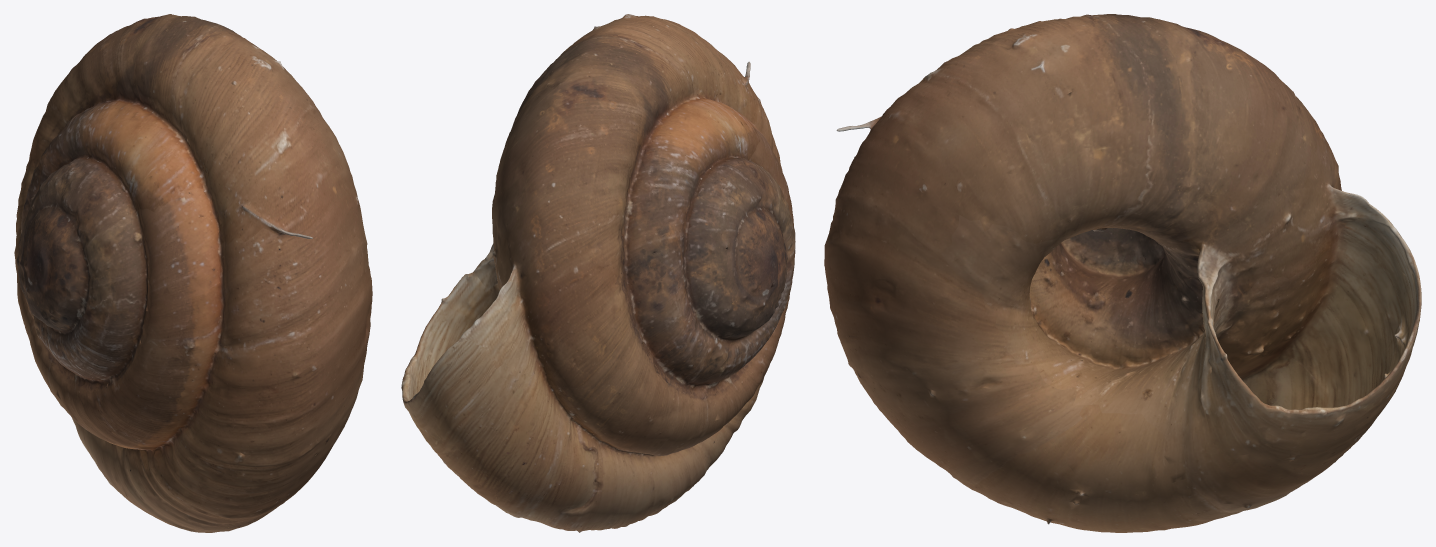
Rendered from Mollusk.glb.
3 renders of one model, left to right at view 1: azimuth 30°, elevation 25°; view 2: azimuth 150°, elevation 25°; view 3: azimuth 270°, elevation 25°, orthographic. The views are drawn at different scales.
Parts seen in each view (by area): view 1: Mollusk medium; view 2: Mollusk medium; view 3: Mollusk medium.
Part boxes in pixels (x1,y1,x2,y2): Mollusk medium: (14, 14, 372, 532); Mollusk medium: (401, 14, 795, 532); Mollusk medium: (824, 14, 1421, 532).
Bounding box in the file's own units: 1.5 × 2.32 × 2.44.
1 material, 1 textured.
